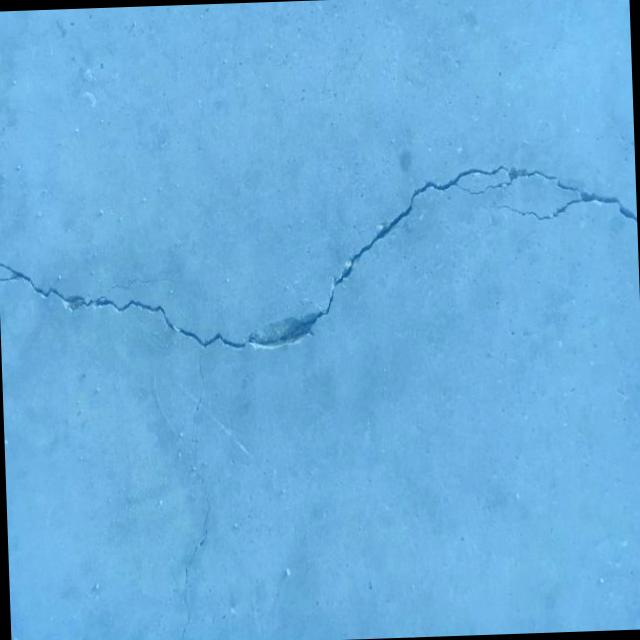crack: (0, 160, 640, 397), (174, 434, 215, 640), (190, 396, 202, 429)
